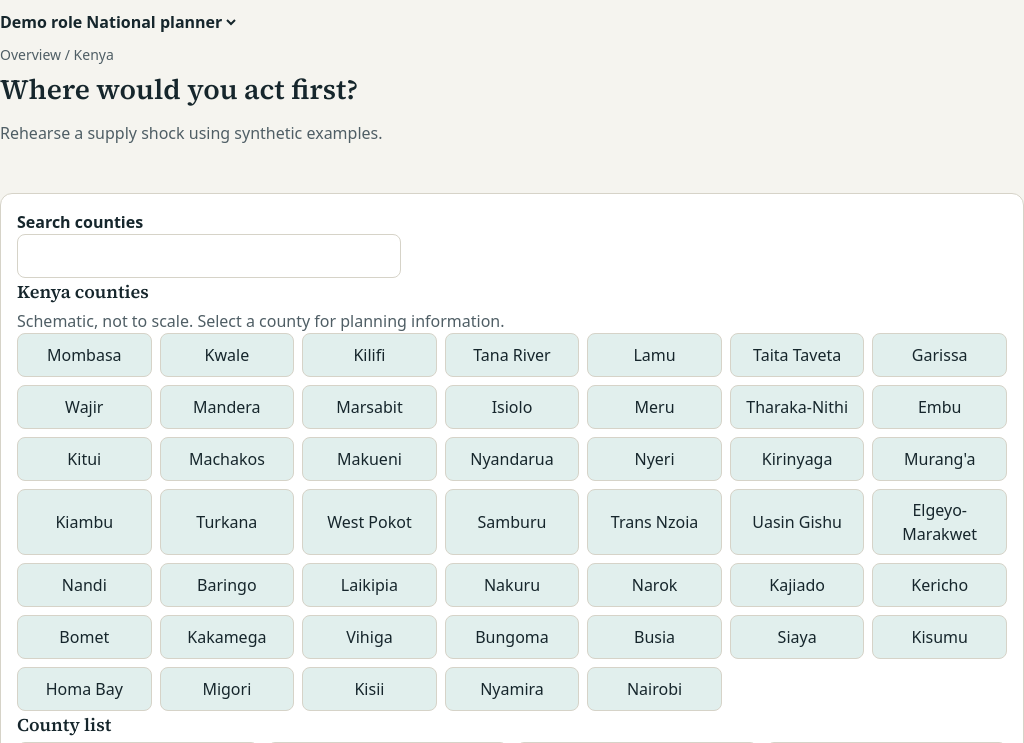
Test: shows role switching only when enabled and hides the overview for facility scope
Expected: the heading "Where would you act first?" is shown, [0, 70, 358, 108]
Step 1. Select "Facility" in the dropdown labelled "Demo role" → (161,22), box [82, 0, 239, 44]
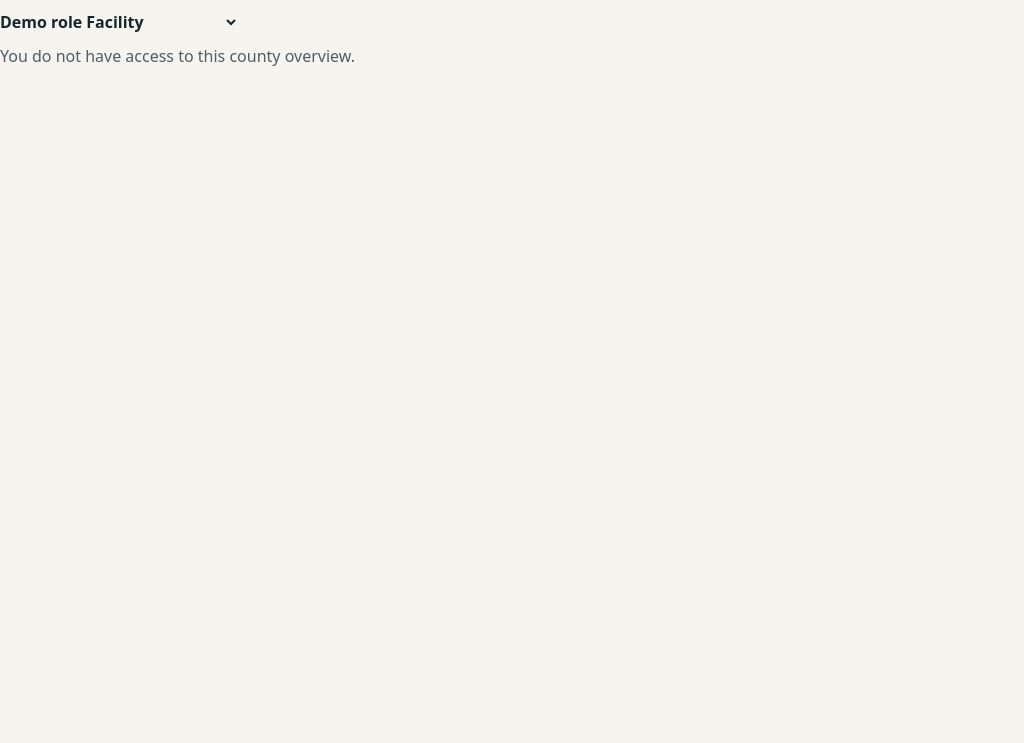
Now the text "You do not have access to this county overview." is shown, box [0, 45, 355, 67]
Now the heading "Where would you act first" is gone
